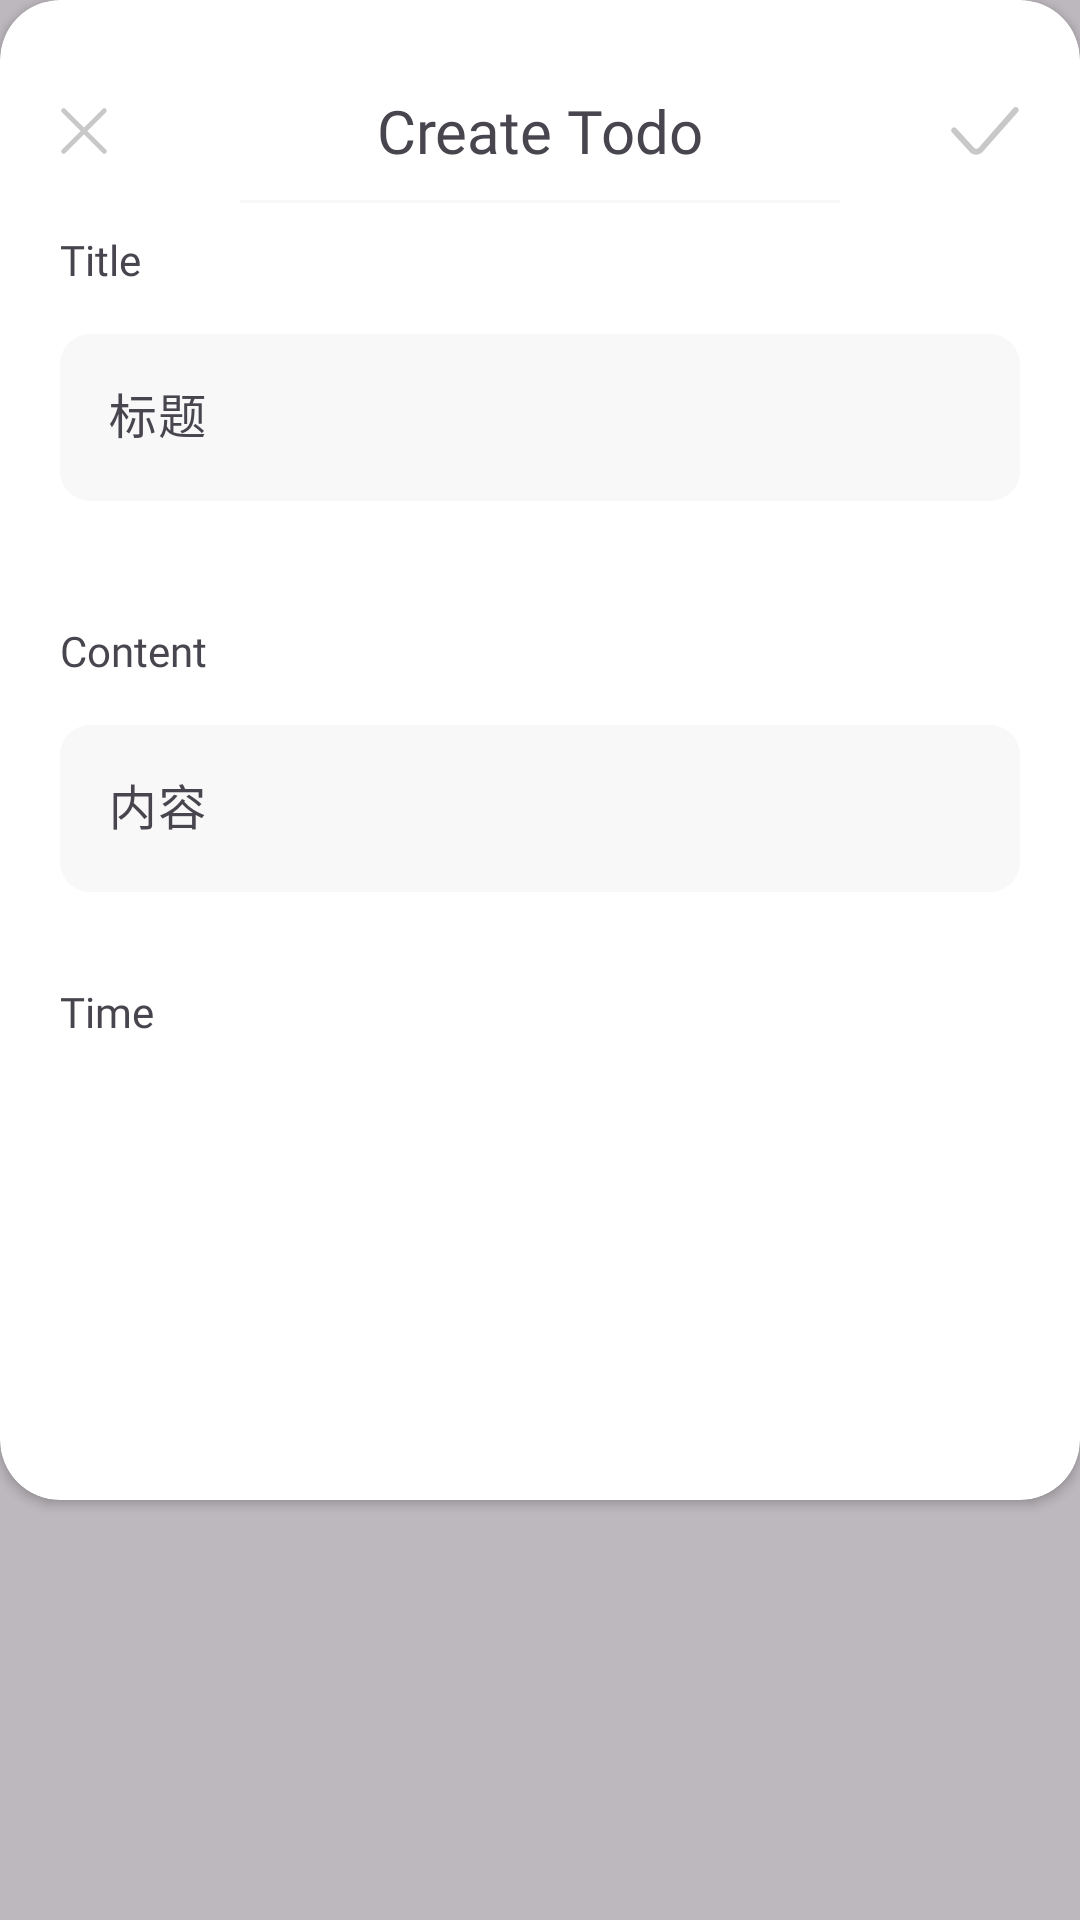

Icon bounding boxes for this 1080 x 1920 phone screenshot, format (x1, y1, x2, y2):
cancel: (61, 108, 107, 154)
submit: (951, 107, 1019, 155)
